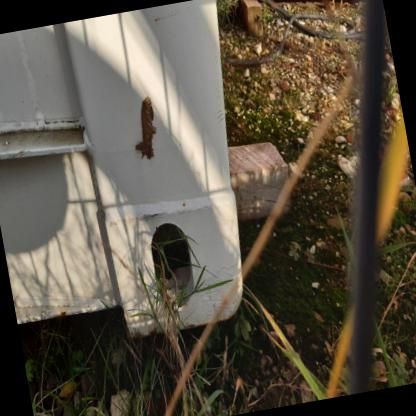CornerCasting: (98, 181, 254, 340)
